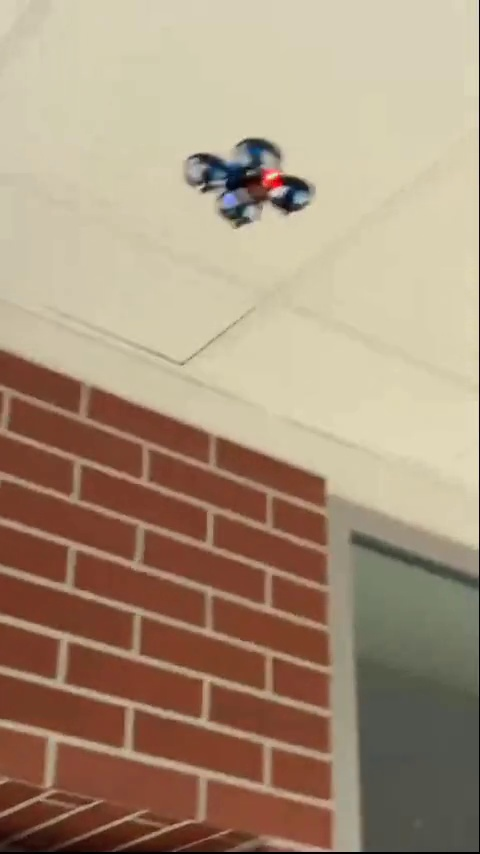drone: (182, 135, 310, 229)
